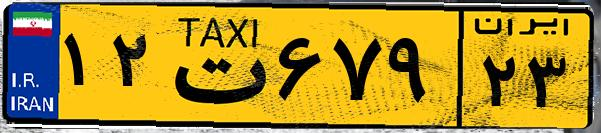1: (57, 26, 110, 100)
2: (475, 38, 525, 113), (110, 28, 158, 98)
3: (525, 38, 570, 115)
6: (270, 28, 330, 110)
7: (330, 28, 385, 110)
9: (385, 28, 445, 110)
ت: (158, 12, 270, 120)
